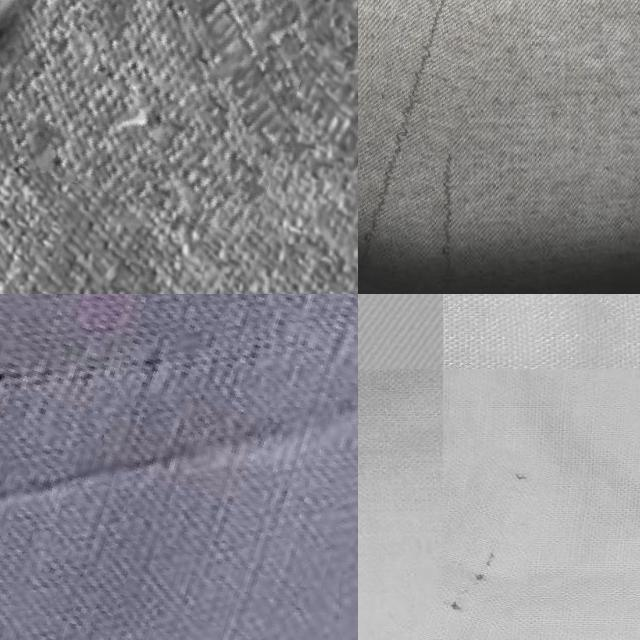Hole: (427, 444, 545, 640)
Thread_other: (0, 294, 358, 640), (361, 0, 543, 294)
